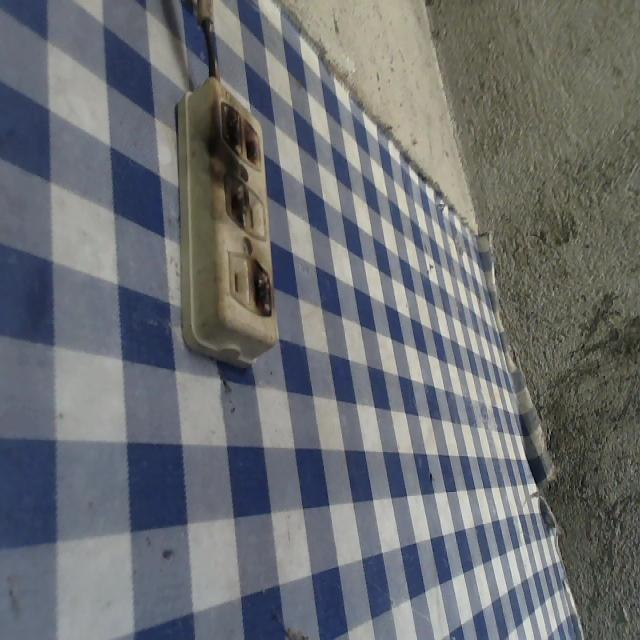-: (216, 97, 261, 168), (221, 171, 252, 228), (248, 255, 272, 317)
